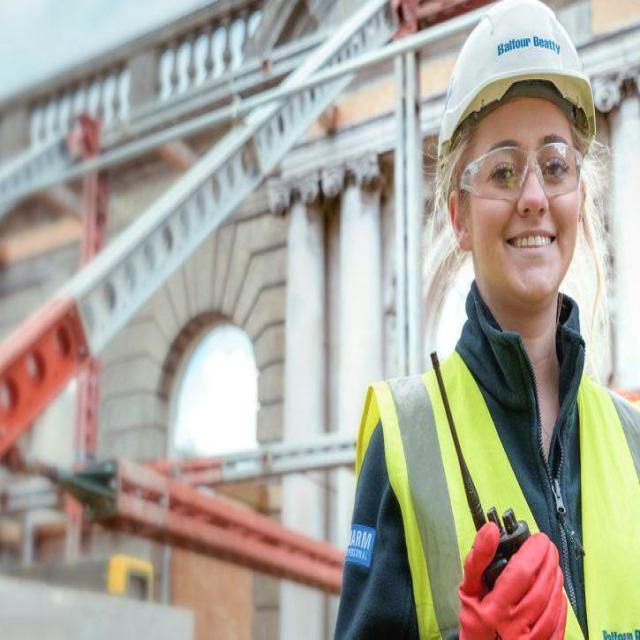face_nomask: (460, 121, 580, 298)
glasses: (458, 130, 588, 208)
hand_glove: (443, 519, 570, 640)
head_helmet: (434, 4, 600, 125)
person: (340, 7, 638, 637)
vest: (367, 362, 639, 635)
